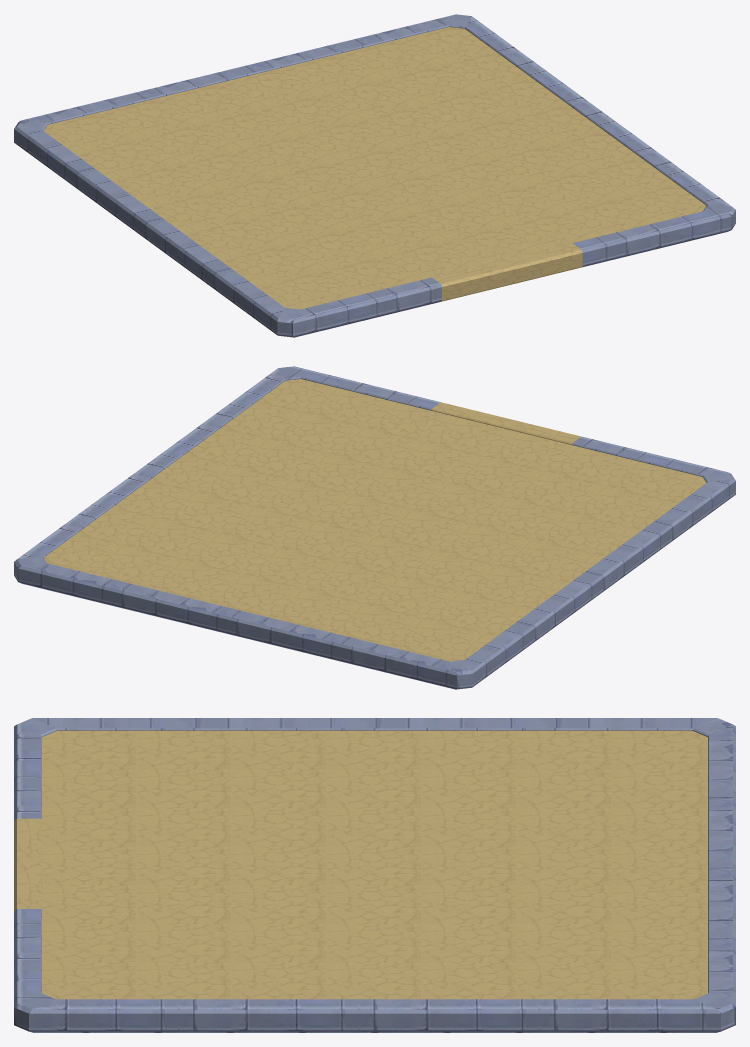
Rendered from tai1.FBX.
The picture shows the model from 3 angles, top to bottom: view 1: azimuth 30°, elevation 25°; view 2: azimuth 150°, elevation 25°; view 3: azimuth 270°, elevation 25°; orthographic projection. The views are drawn at different scales.
Visible parts, largest first — view 1: tai1; view 2: tai1; view 3: tai1.
Part boxes in pixels (bbox=[...]): tai1: bbox=[14, 14, 735, 337]; tai1: bbox=[14, 366, 735, 689]; tai1: bbox=[14, 718, 735, 1032].
Bounding box in the file's own units: 8378 × 318 × 8698.
